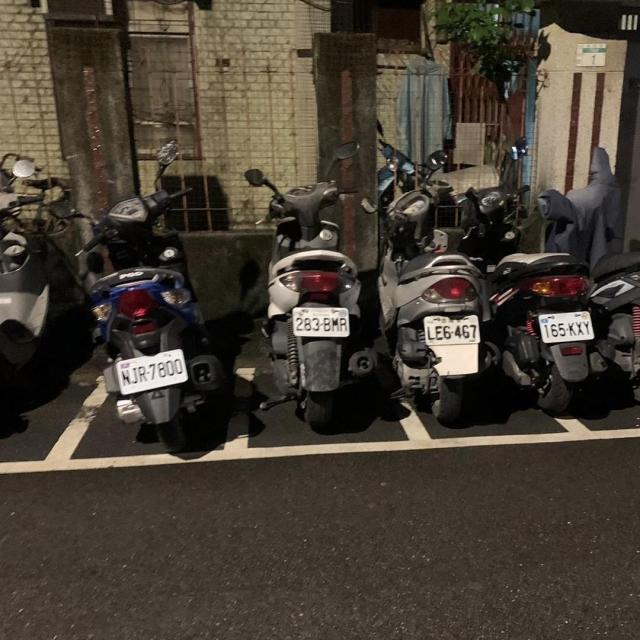W: (98, 344, 194, 396), (287, 300, 354, 341), (420, 310, 484, 348), (534, 307, 598, 344)
